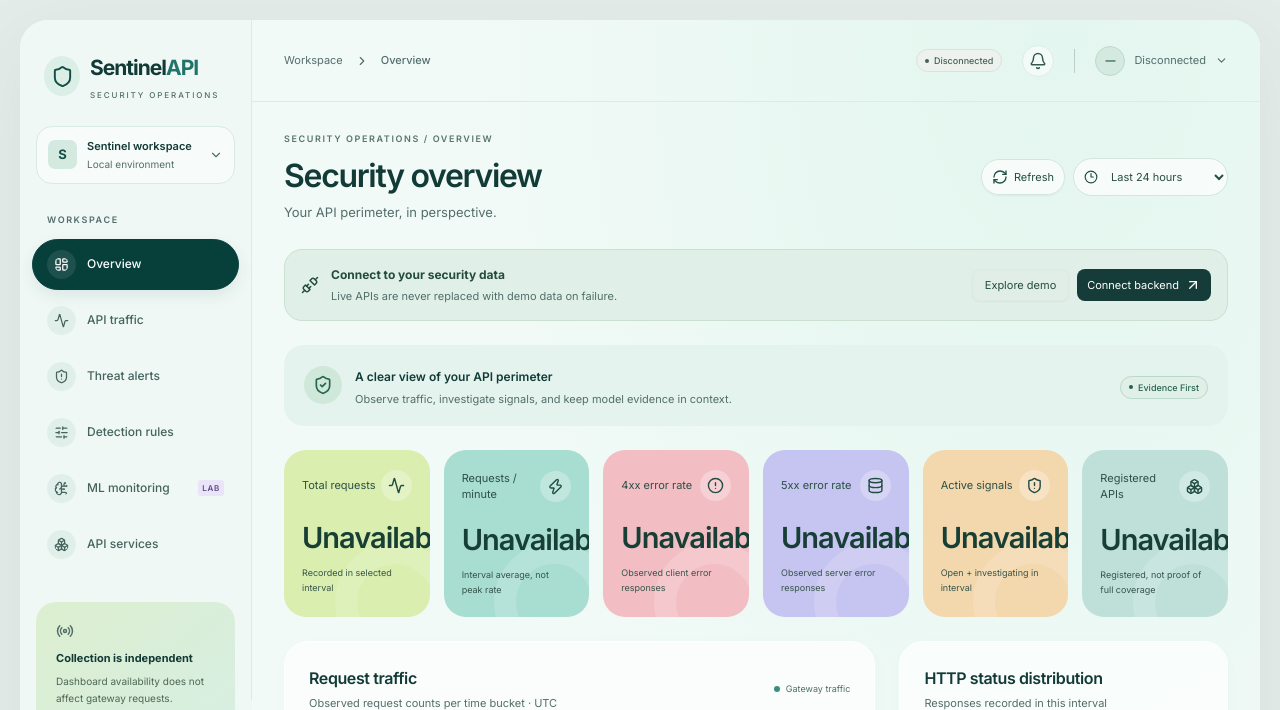
Test: navigates from explicit demo overview to API traffic
Click the button "Explore demo" at (1021, 285), box x1=972 y1=269 x2=1069 y2=301
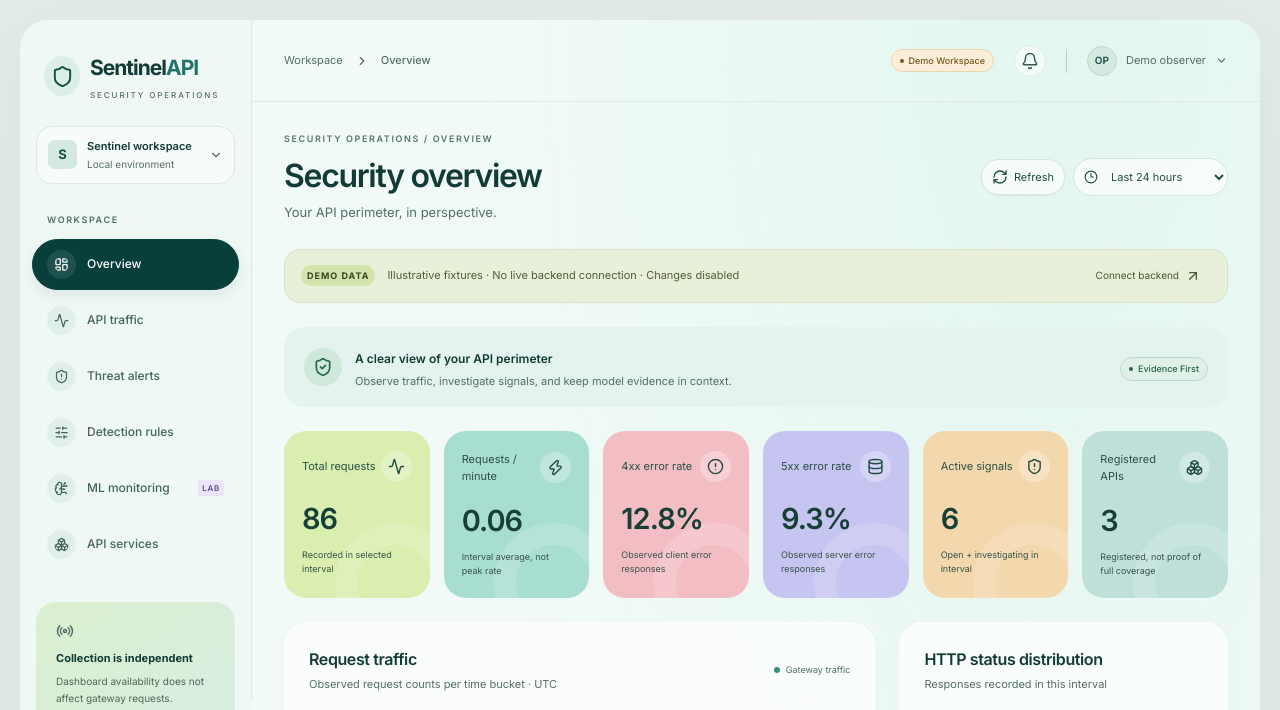
Expected: the text "DEMO DATA" is shown, x1=301 y1=265 x2=375 y2=286
Click the link "API traffic" at (95, 320), box x1=47 y1=306 x2=144 y2=334
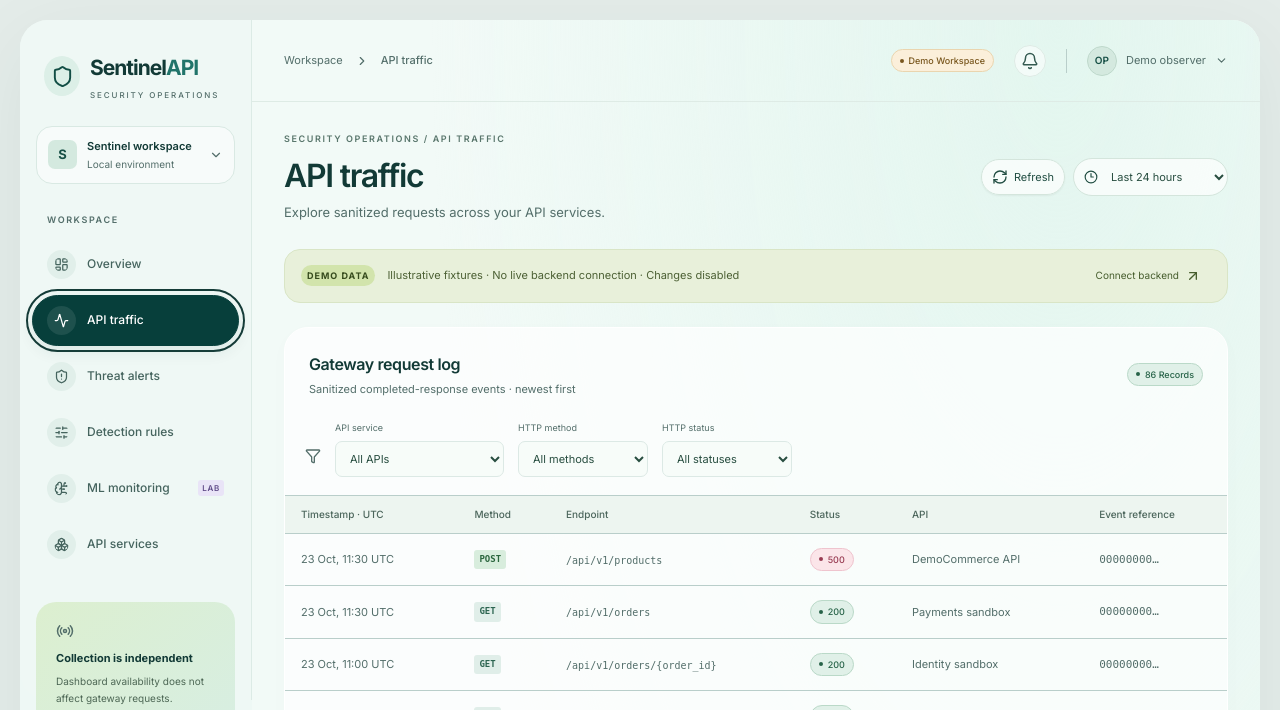
Now the heading "Gateway request log" is shown, box x1=309 y1=354 x2=460 y2=374
Now the column heading "Event reference" is shown, box x1=1083 y1=495 x2=1227 y2=533
